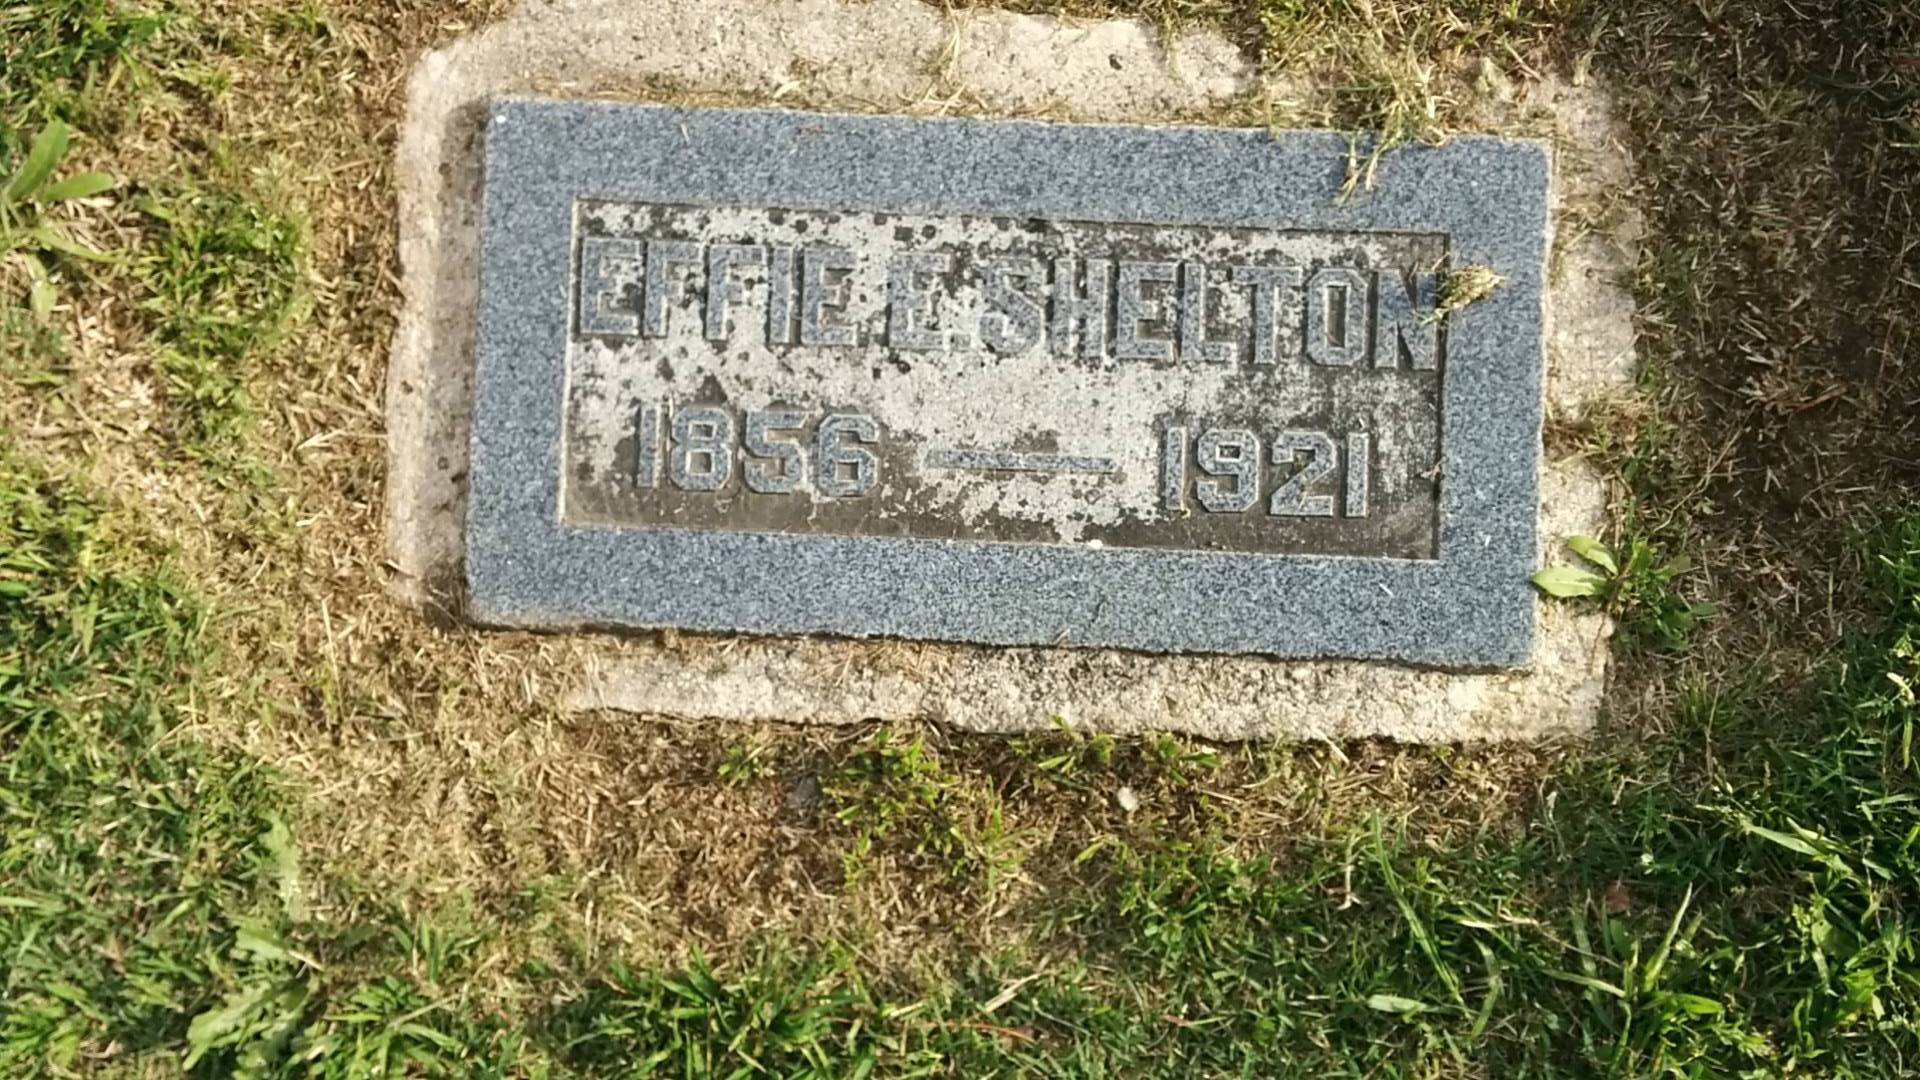flat: (459, 87, 1545, 679)
